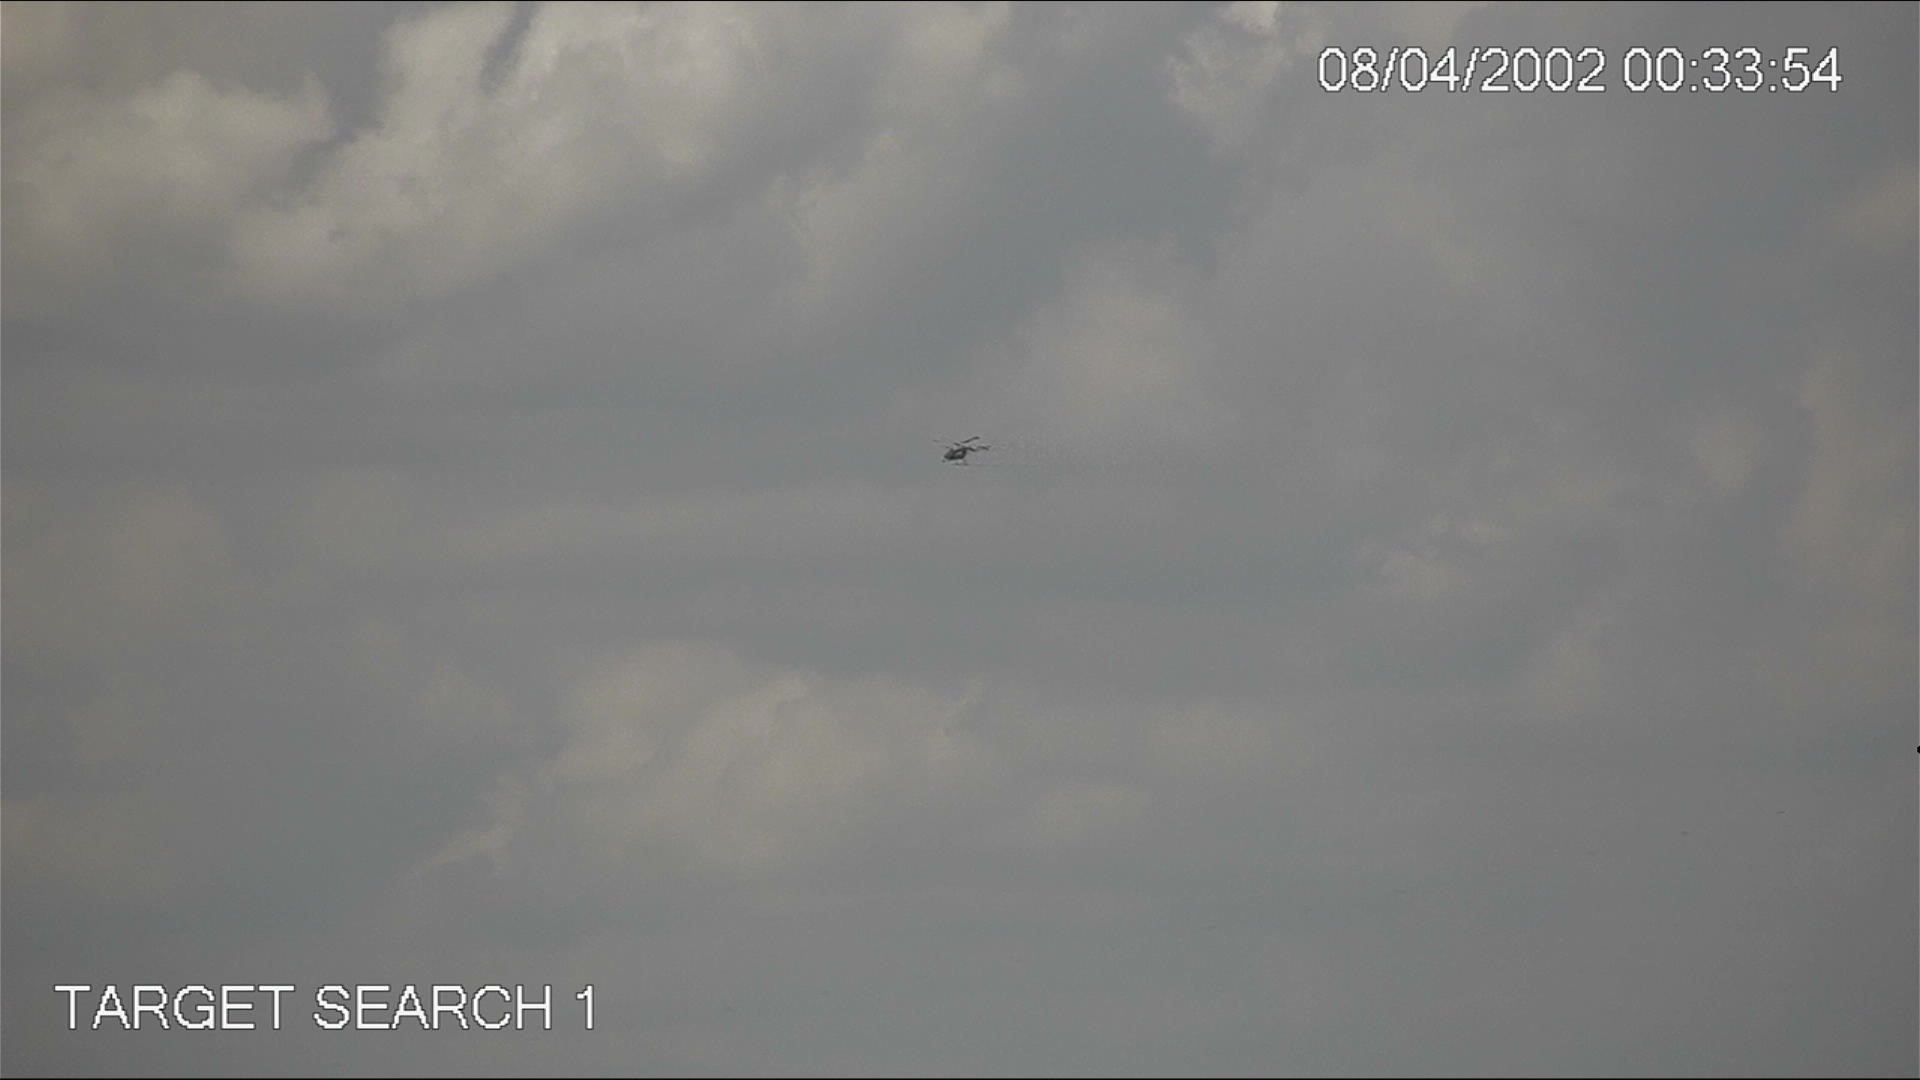SU_30: (934, 433, 1000, 469)
